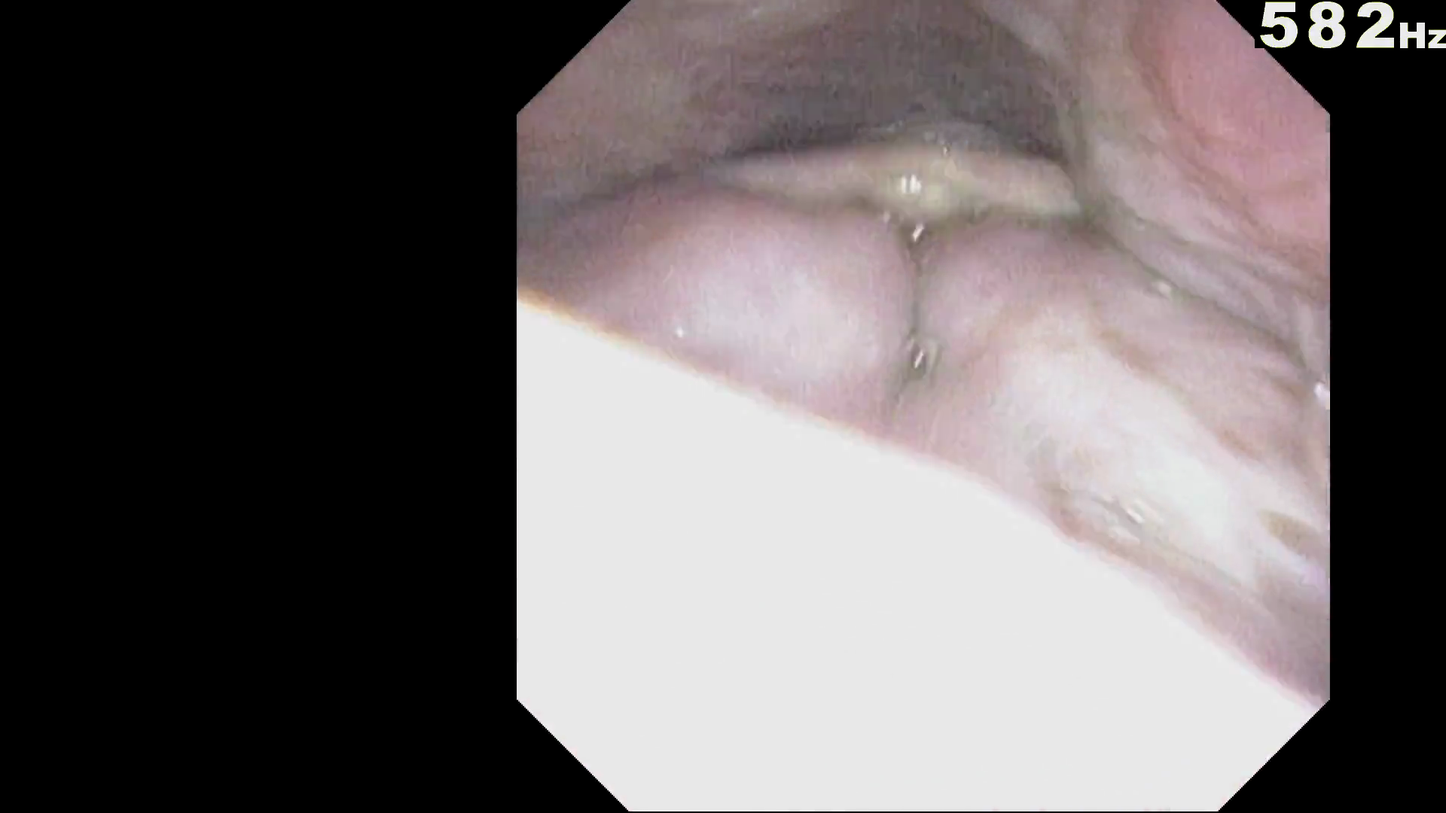epiglottis: (714, 197, 1116, 292)
